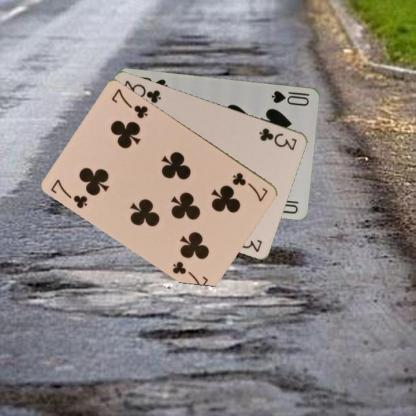10s: (269, 88, 311, 107)
3c: (257, 125, 298, 151)
7c: (48, 176, 89, 210), (230, 169, 269, 203)
